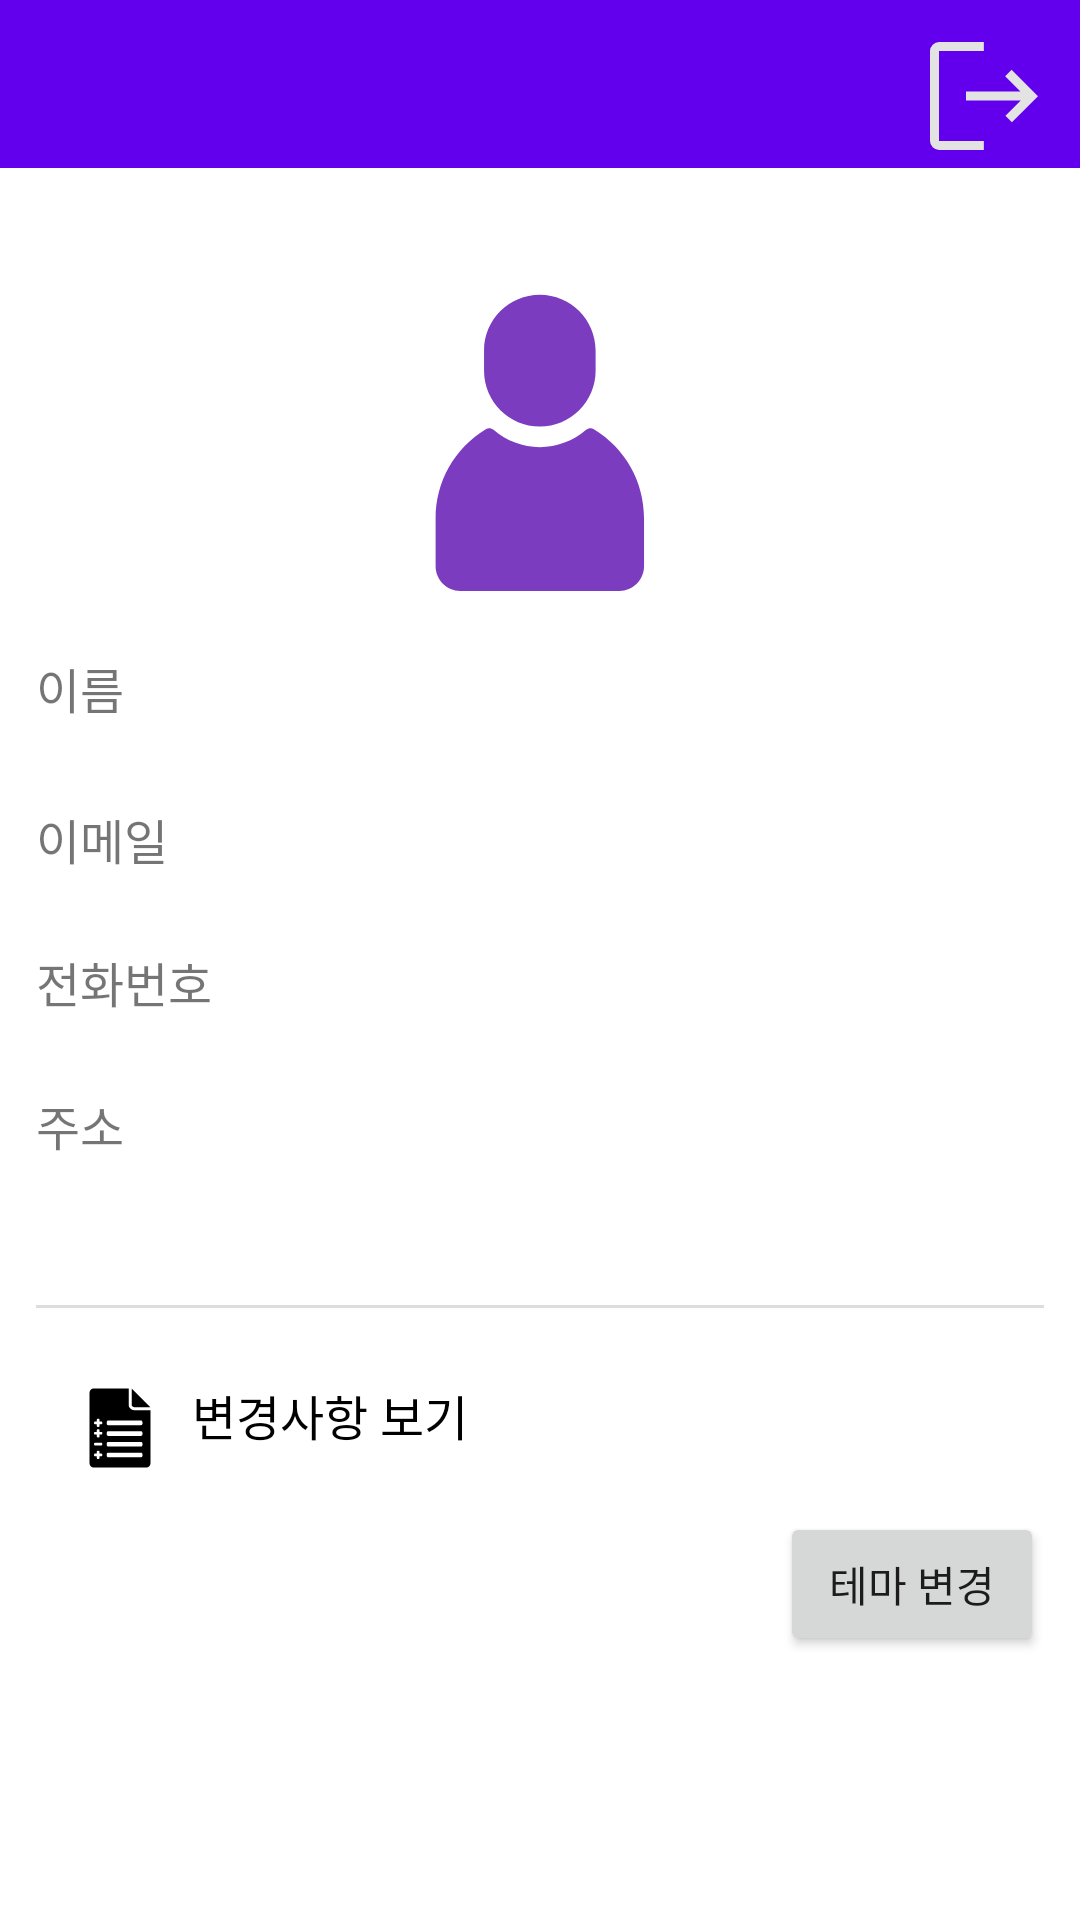

Screen size 1080w x 1920h. Icon name, then its box in pixels as (x1, y1, x2, y2):
프로필 이미지: (435, 294, 644, 591)
